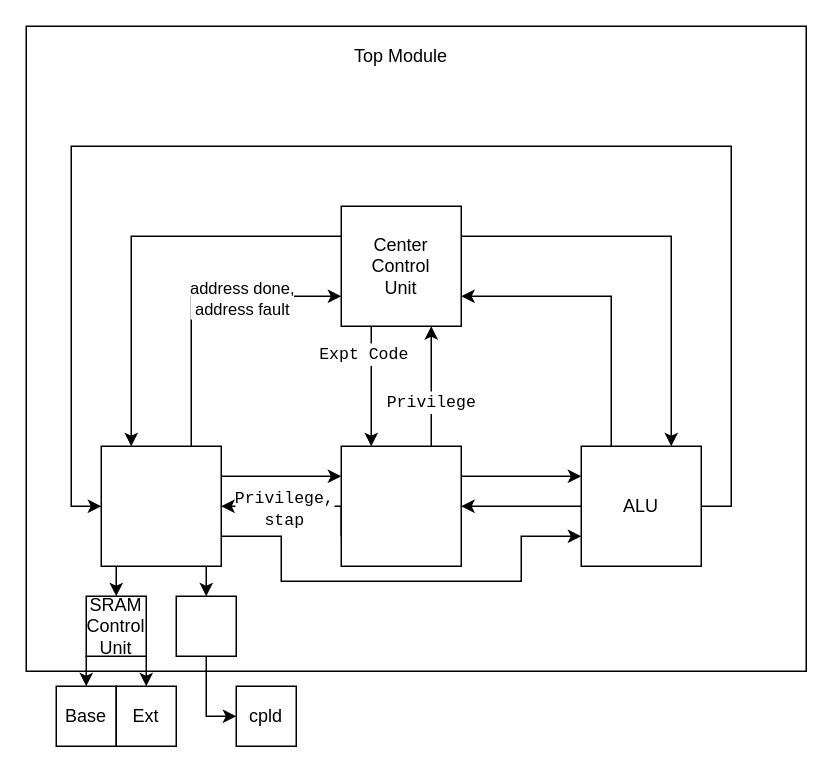
The diagram is 833 pixels wide and 773 high, and some of its shapes have lost their labels. Each missing label, with the centre of its shape:
Memory Control Unit: the point at 160,505
Register Control Unit: the point at 400,505
Uart Control Unit: the point at 205,625
